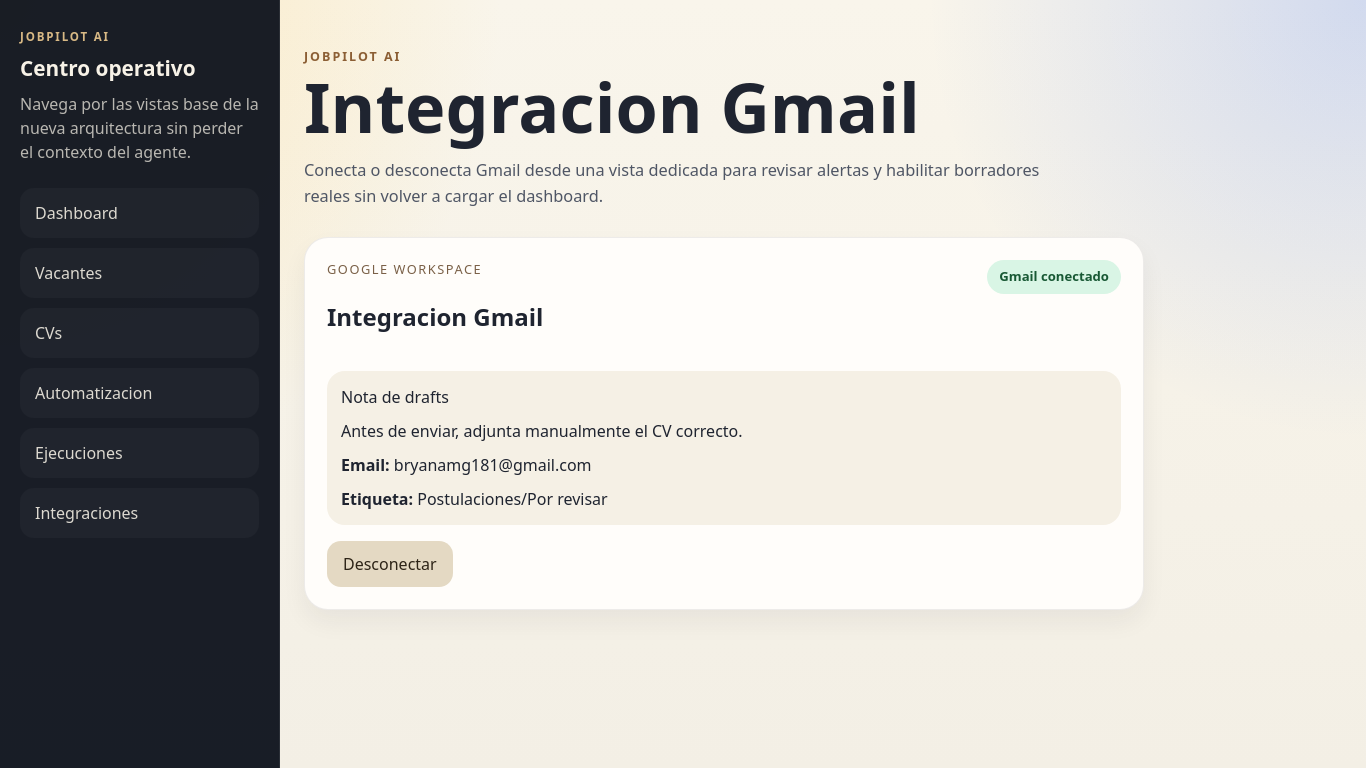
GmailIntegrationPage › muestra Gmail conectado y permite desconectar
Expected: the text "Gmail conectado" is shown, [987,260,1121,294]
Click the button "Desconectar" at (390, 564), box [327,541,453,587]
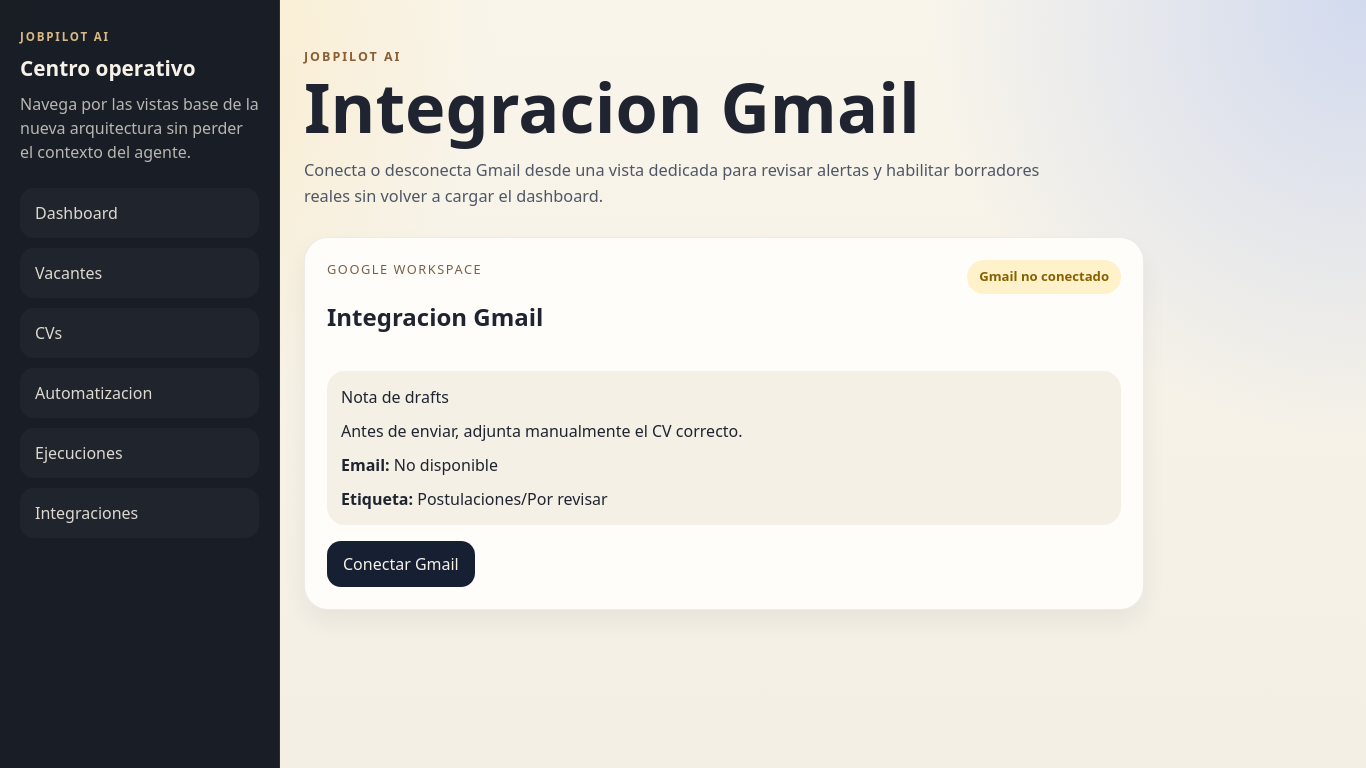
Now the text "Gmail no conectado" is shown, box [967,260,1121,294]
